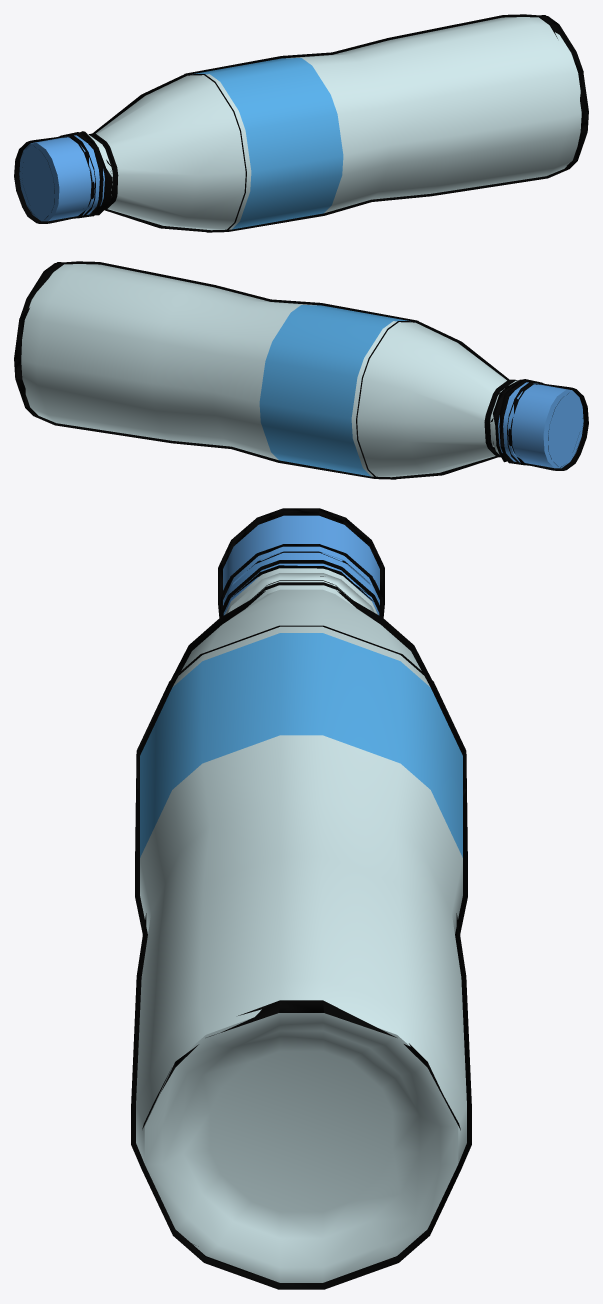
File: plasticbottle.glb
3 views of the same model, one above another, from view 1: azimuth 30°, elevation 25°; view 2: azimuth 150°, elevation 25°; view 3: azimuth 270°, elevation 25° (orthographic). The views are drawn at different scales.
Parts seen in each view (by area): view 1: Cylinder.012; view 2: Cylinder.012; view 3: Cylinder.012.
Part boxes in pixels (x1,y1,x2,y2): Cylinder.012: (14, 14, 588, 232); Cylinder.012: (14, 261, 588, 479); Cylinder.012: (131, 508, 471, 1289).
Bounding box in the file's own units: 0.9145 × 0.2903 × 0.2586.
